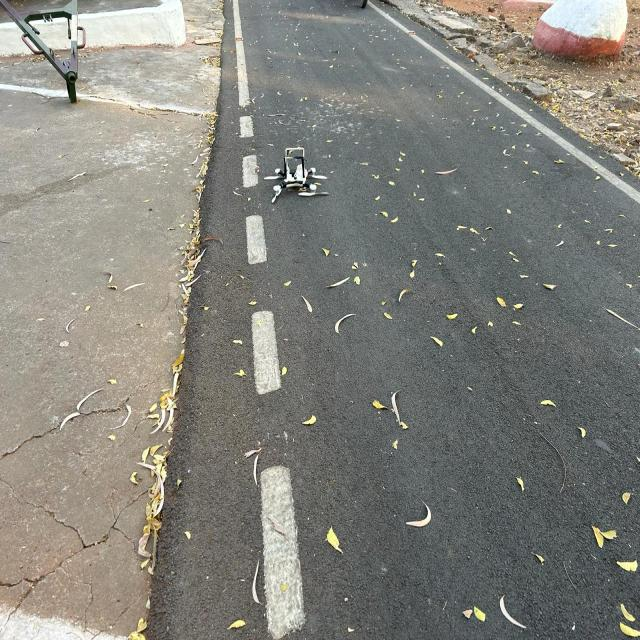drone: (248, 104, 345, 244)
